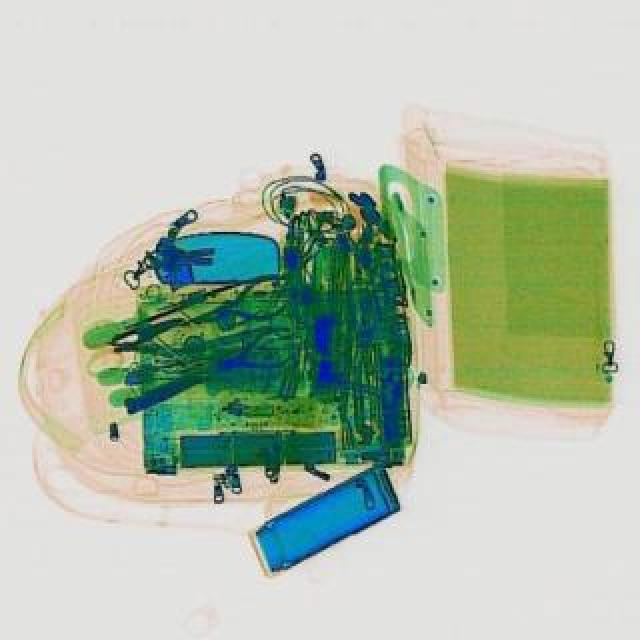wrench: (190, 268, 294, 338), (206, 320, 302, 390)
